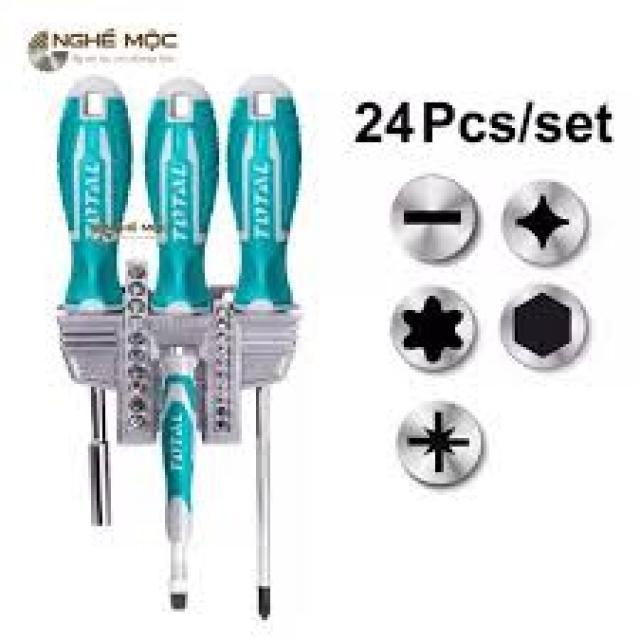screwdriver: (219, 58, 302, 619), (144, 76, 220, 614), (52, 77, 132, 535)
